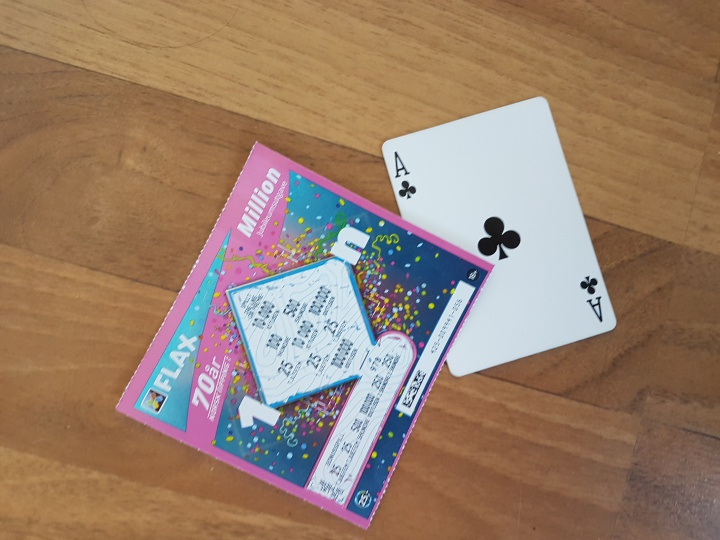ace: (378, 80, 634, 381)
